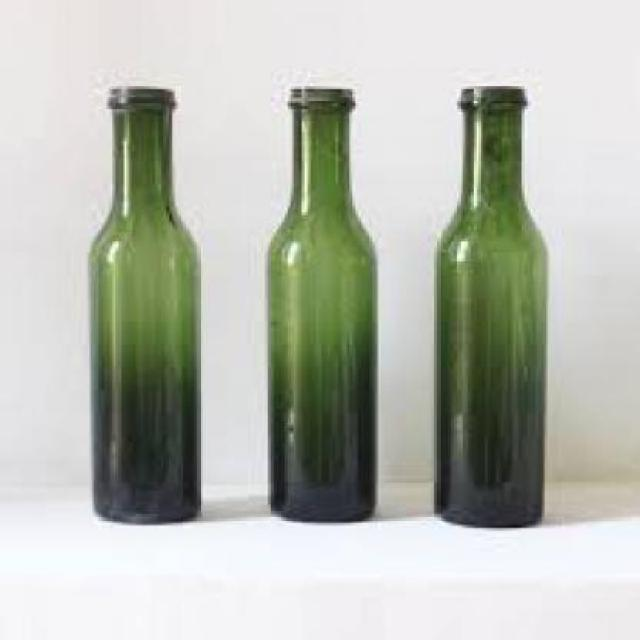kaca: (264, 86, 376, 520), (85, 86, 197, 520), (434, 86, 541, 525)
